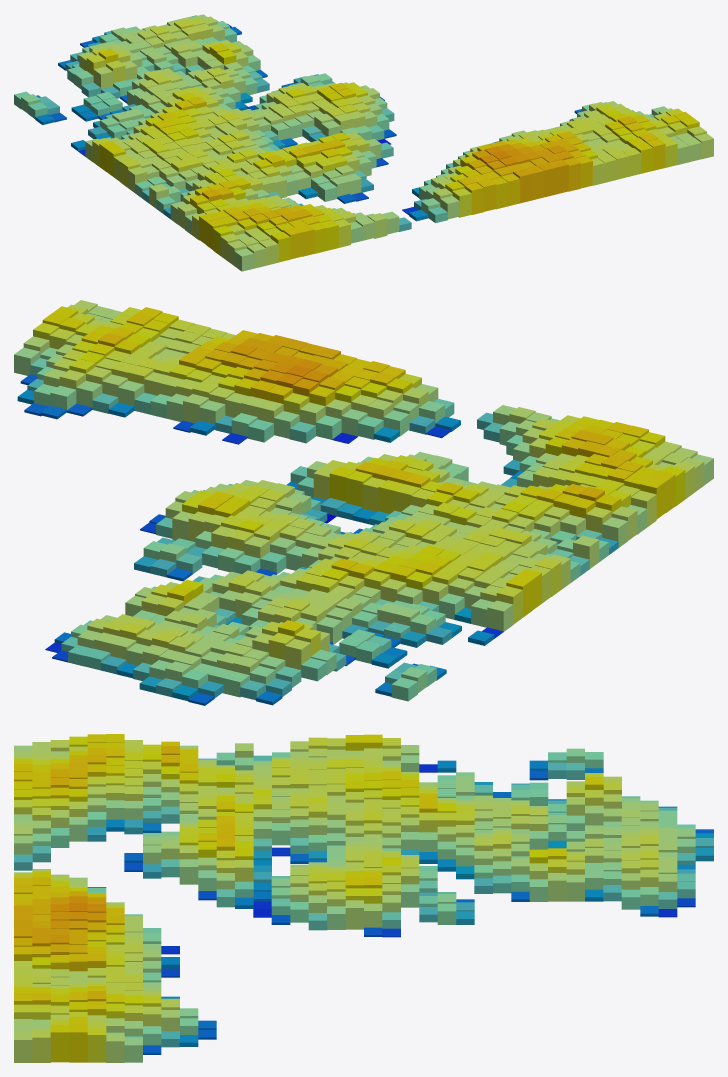
File: population.glb
3 renders of one model, top to bottom at view 1: azimuth 30°, elevation 25°; view 2: azimuth 150°, elevation 25°; view 3: azimuth 270°, elevation 25°, orthographic. The views are drawn at different scales.
Parts seen in each view (by area): view 1: population; view 2: population; view 3: population.
Boxes of the visible parts, box(x1,y1,x2,y2) form: population: box(14, 14, 713, 271); population: box(14, 300, 713, 705); population: box(14, 734, 713, 1062).
Size of the model in its own units: 3803 by 251 by 3777.
